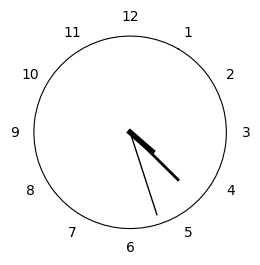12: (123, 10, 138, 22)
circle: (34, 36, 228, 229)
hours: (126, 128, 155, 155)
minutes: (134, 138, 178, 180)
seconds: (132, 138, 156, 215)
